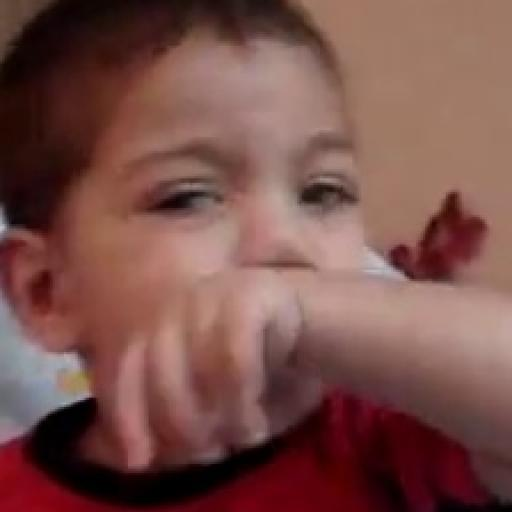Autism: (29, 14, 419, 448)
